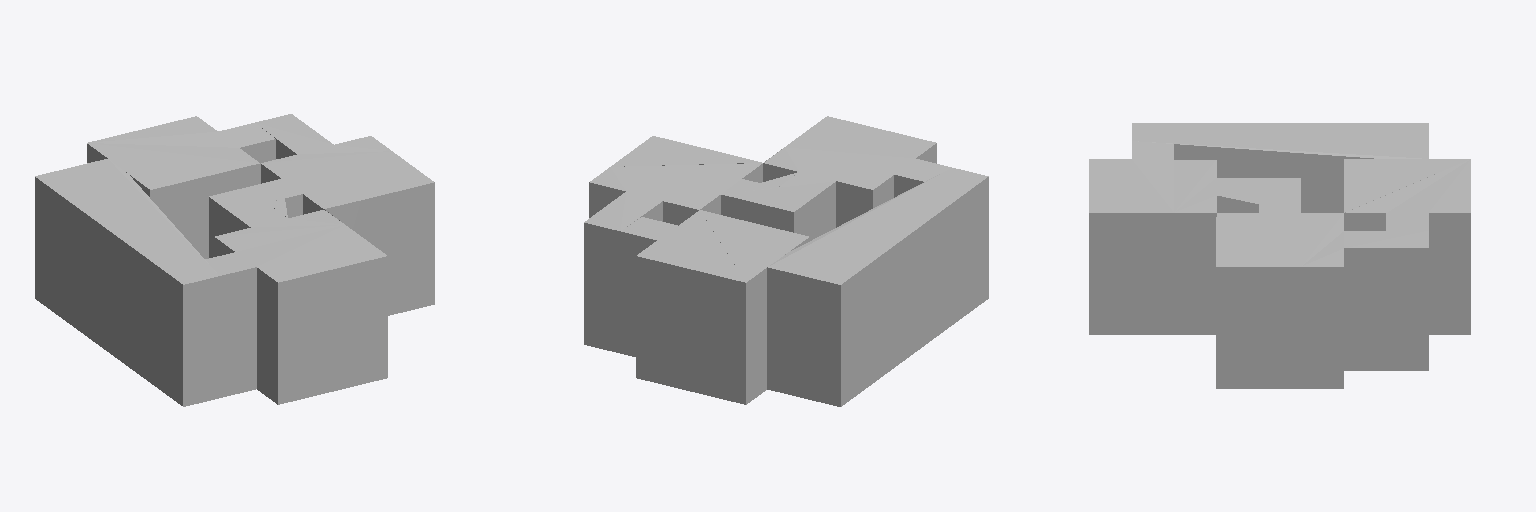
File: area1.obj
3 renders of one model, left to right at view 1: azimuth 30°, elevation 25°; view 2: azimuth 150°, elevation 25°; view 3: azimuth 270°, elevation 25°, orthographic.
Parts seen in each view (by area): view 1: Plane; view 2: Plane; view 3: Plane.
Boxes of the visible parts, box(x1,y1,x2,y2) form: Plane: box(35, 114, 434, 406); Plane: box(584, 116, 988, 406); Plane: box(1089, 123, 1470, 388).
Size of the model in its own units: 15.98 by 6.35 by 18.